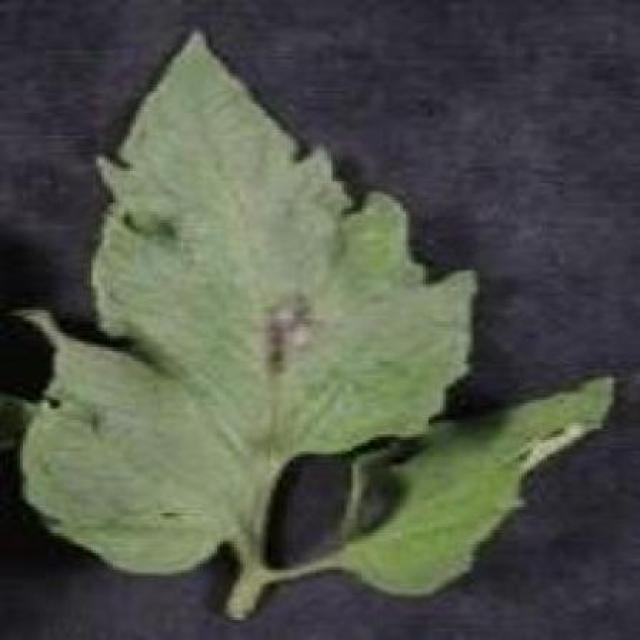Late Blight: (4, 14, 624, 624)
